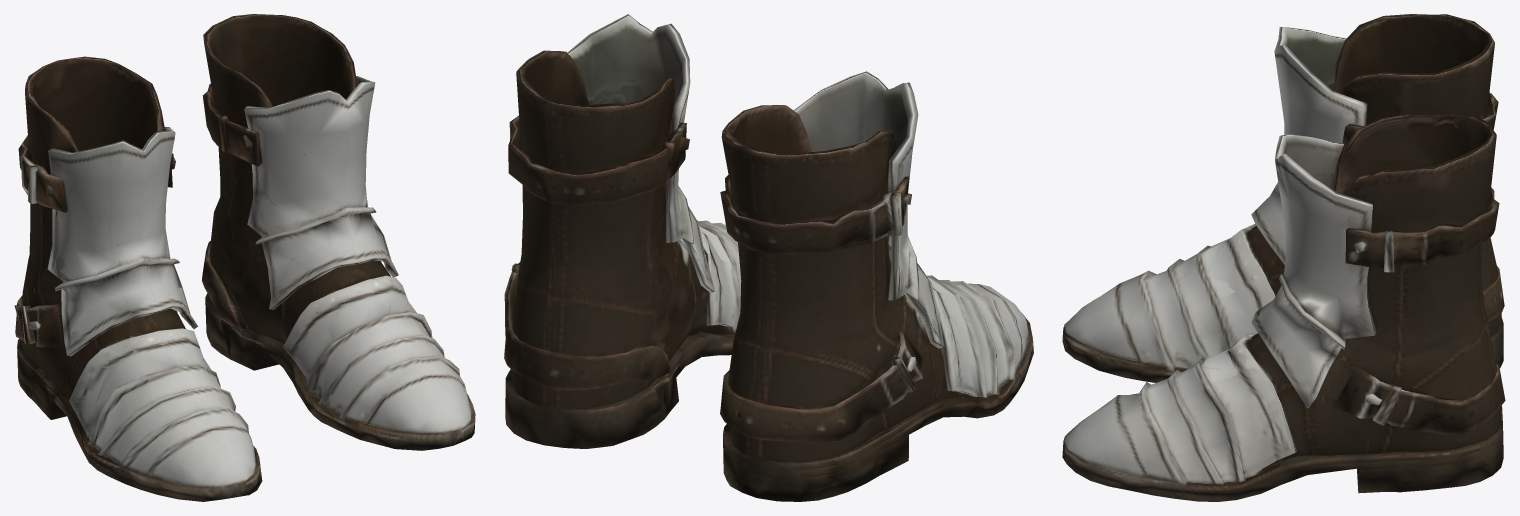
File: iron_boots.glb
The picture shows the model from 3 angles, left to right: view 1: azimuth 30°, elevation 25°; view 2: azimuth 150°, elevation 25°; view 3: azimuth 270°, elevation 25°; orthographic projection. The views are drawn at different scales.
Parts seen in each view (by area): view 1: iron_boots; view 2: iron_boots; view 3: iron_boots.
Boxes of the visible parts, <box> form: iron_boots: <box>14,14,475,501</box>; iron_boots: <box>504,14,1033,501</box>; iron_boots: <box>1062,14,1505,501</box>.
Bounding box in the file's own units: 0.3493 × 0.2803 × 0.3486.
Materials: 1 (1 with a texture image).
